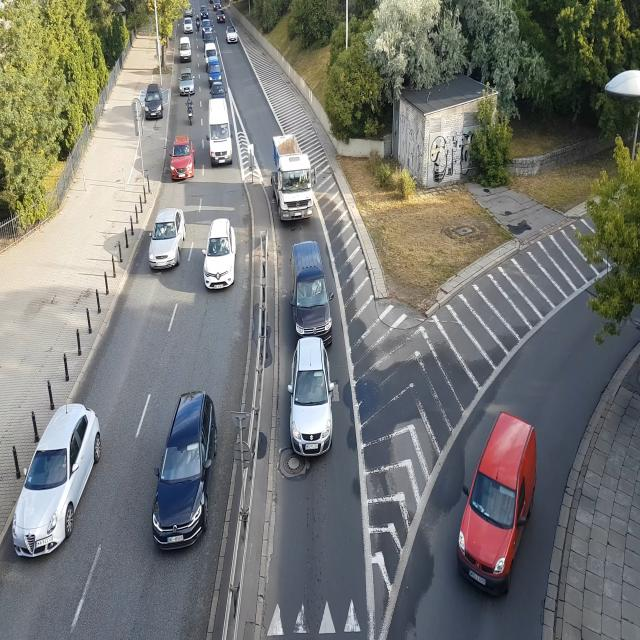car: (457, 407, 536, 609), (11, 407, 102, 567), (152, 391, 220, 556), (288, 340, 334, 466), (292, 244, 333, 337), (200, 214, 244, 294), (147, 206, 187, 272), (206, 99, 236, 166), (170, 137, 196, 183), (144, 93, 164, 118), (181, 38, 194, 64), (208, 60, 222, 81), (180, 82, 197, 97), (212, 82, 226, 99), (227, 28, 240, 44), (205, 45, 218, 61), (201, 20, 213, 34), (182, 19, 194, 33), (203, 33, 216, 45), (200, 4, 210, 19), (184, 5, 193, 18), (216, 14, 226, 24), (213, 0, 222, 9)
motorcycle: (185, 97, 194, 132), (195, 15, 200, 31)
truck: (270, 130, 316, 226)
